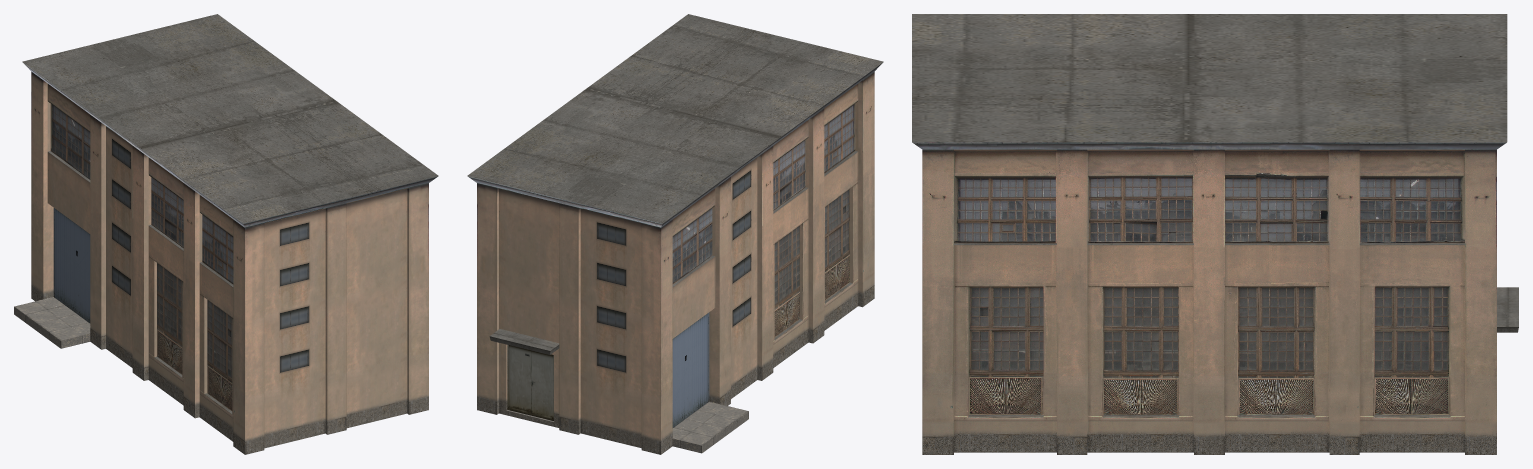
File: low_poly_factory_building.glb
The picture shows the model from 3 angles, left to right: view 1: azimuth 30°, elevation 25°; view 2: azimuth 150°, elevation 25°; view 3: azimuth 270°, elevation 25°; orthographic projection. The views are drawn at different scales.
Visible parts, largest first — view 1: factory_1; view 2: factory_1; view 3: factory_1.
Boxes of the visible parts, left/top/right/bottom form: factory_1: left=14, top=14, right=438, bottom=454; factory_1: left=467, top=14, right=883, bottom=454; factory_1: left=912, top=14, right=1518, bottom=454.
Bounding box in the file's own units: 10.75 × 11.03 × 19.16.
1 material, 1 textured.
